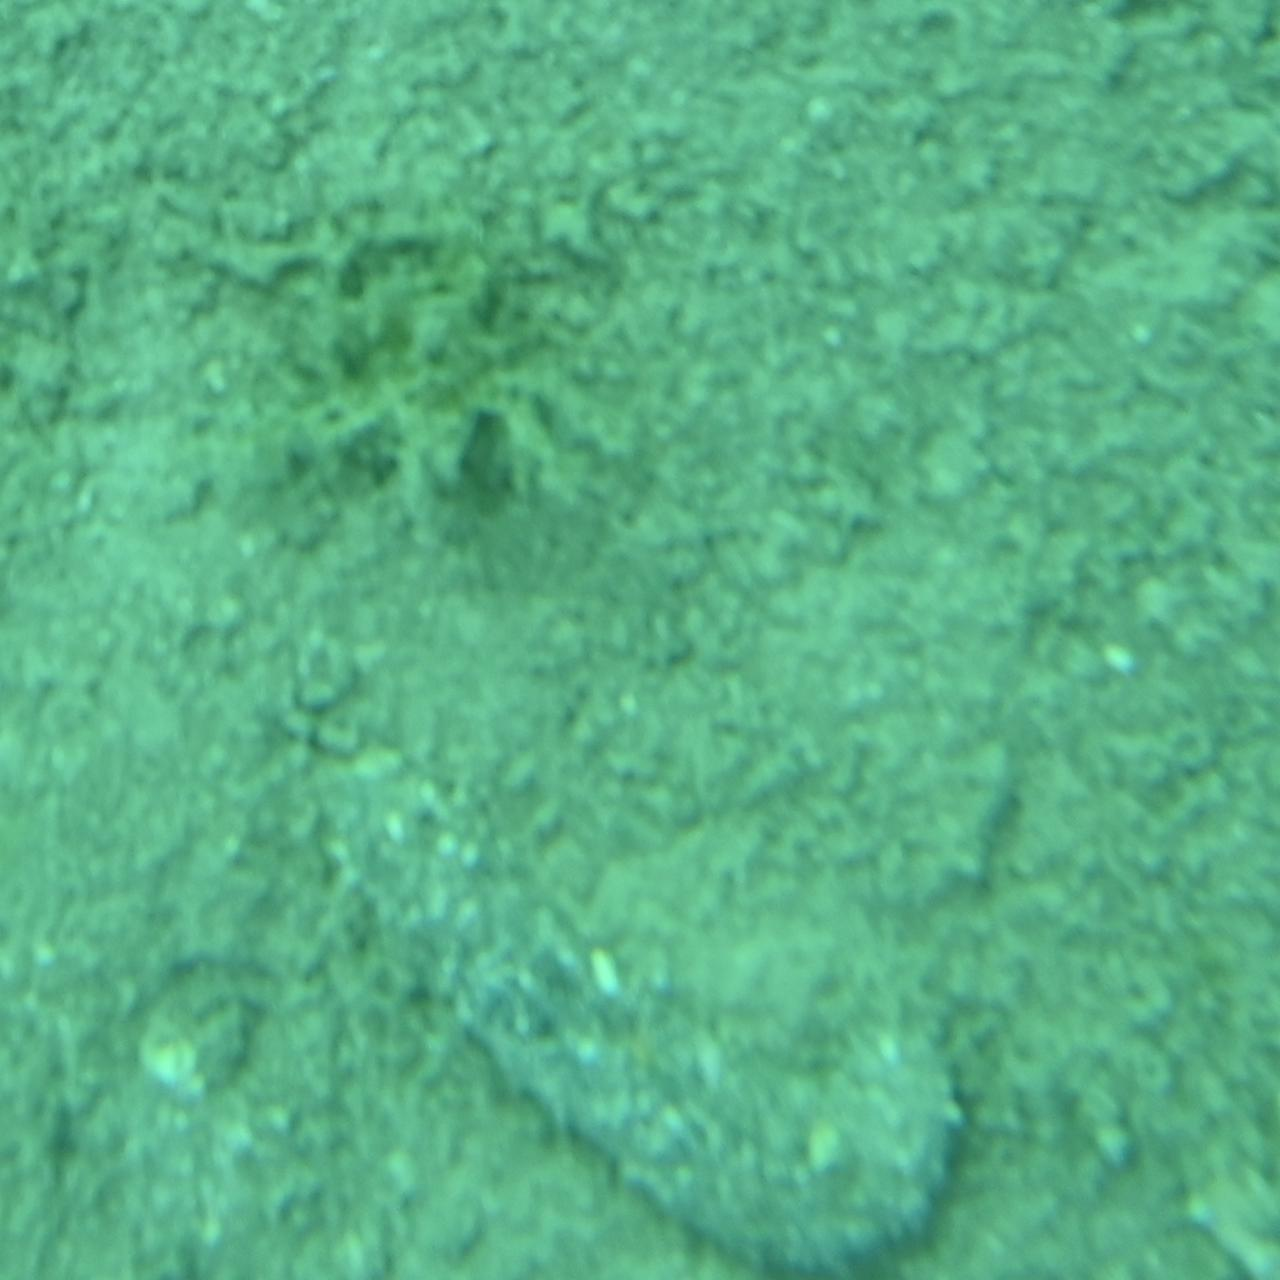Holothuria tubulosa: (314, 748, 966, 1263)
